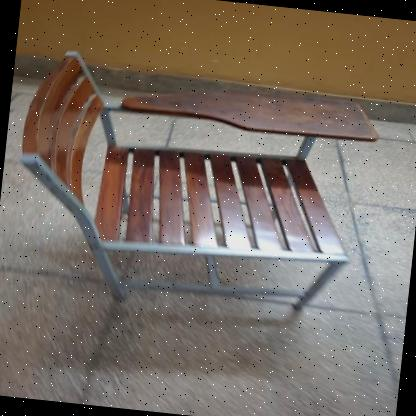chair: (0, 43, 394, 340)
